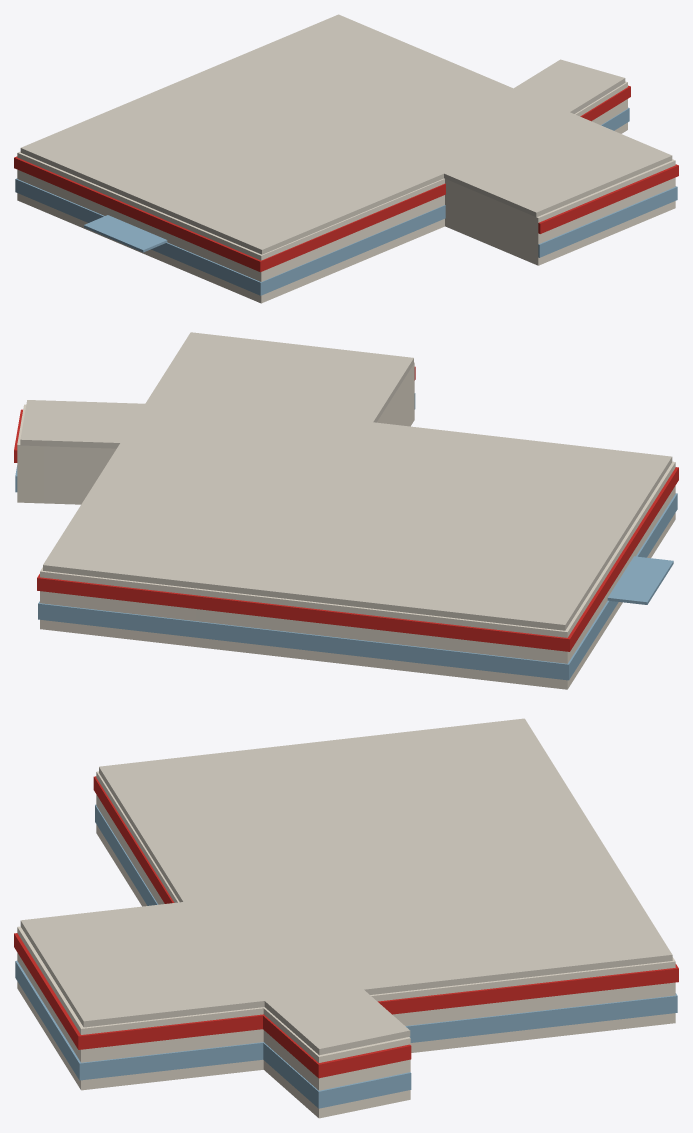
File: capital_hypermarket.glb
3 renders of one model, top to bottom at view 1: azimuth 30°, elevation 25°; view 2: azimuth 150°, elevation 25°; view 3: azimuth 270°, elevation 25°, orthographic. The views are drawn at different scales.
Parts seen in each view (by area): view 1: part; view 2: part; view 3: part.
Part boxes in pixels (x1=…): part: x1=14, y1=14, x2=678, y2=303; part: x1=14, y1=332, x2=678, y2=689; part: x1=14, y1=718, x2=678, y2=1118.
Size of the model in its own units: 3853039 by 360293 by 3209592.
